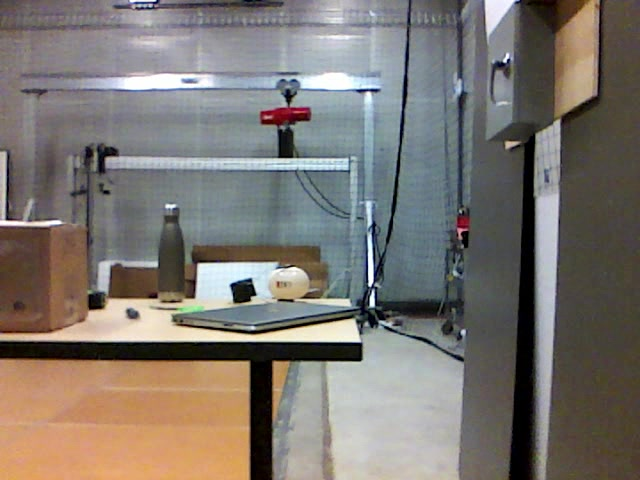box: (1, 222, 88, 334)
